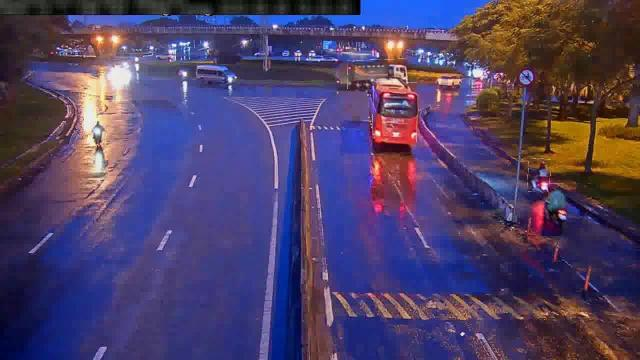Bike: (544, 184, 564, 226), (528, 158, 550, 192), (88, 121, 106, 146)
Bus: (373, 82, 417, 146)
Truck: (348, 59, 407, 89)
